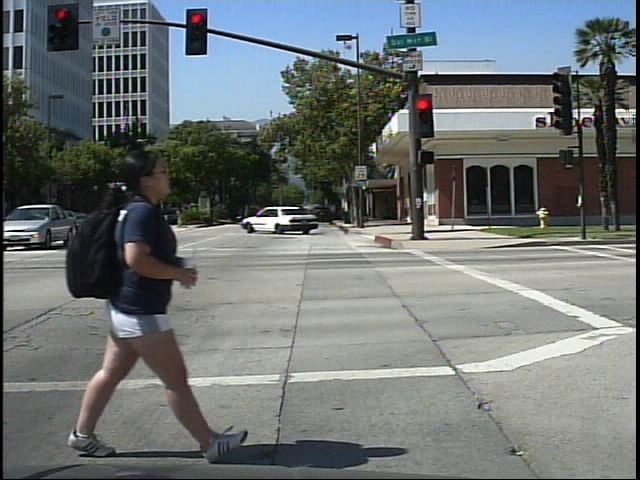person: (62, 127, 243, 467)
